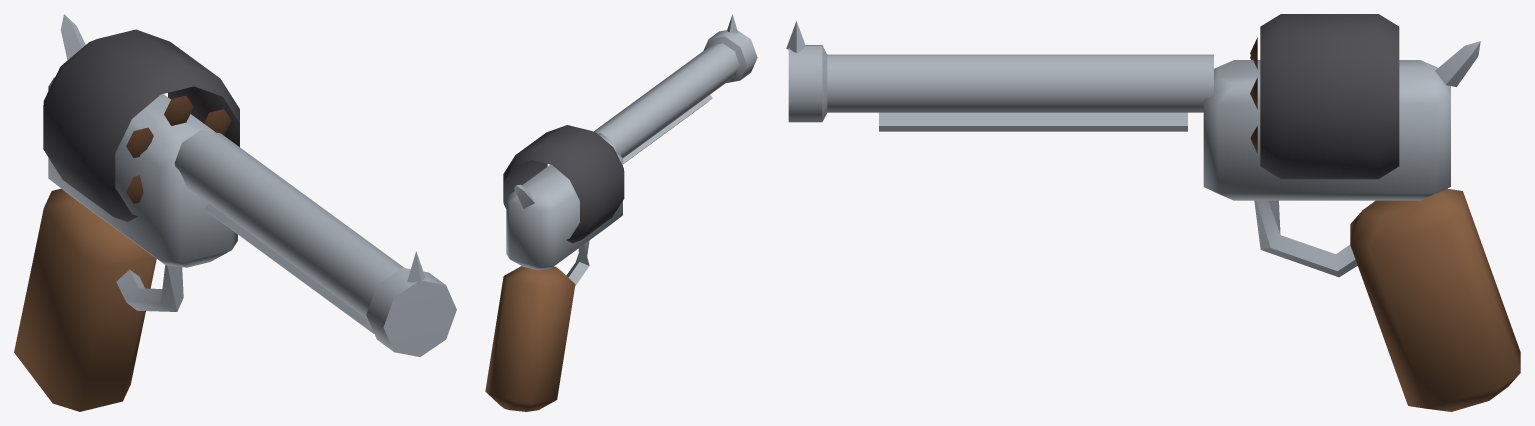
The model's file is sixgun-2.glb.
3 renders of one model, left to right at view 1: azimuth 30°, elevation 25°; view 2: azimuth 150°, elevation 25°; view 3: azimuth 270°, elevation 25°, orthographic. The views are drawn at different scales.
Parts seen in each view (by area): view 1: sixgun-2; view 2: sixgun-2; view 3: sixgun-2.
Part boxes in pixels (x1,y1,x2,y2): sixgun-2: (14, 14, 456, 411); sixgun-2: (485, 14, 757, 411); sixgun-2: (786, 14, 1520, 411).
Size of the model in its own units: 0.0638 by 0.1656 by 0.2851.
